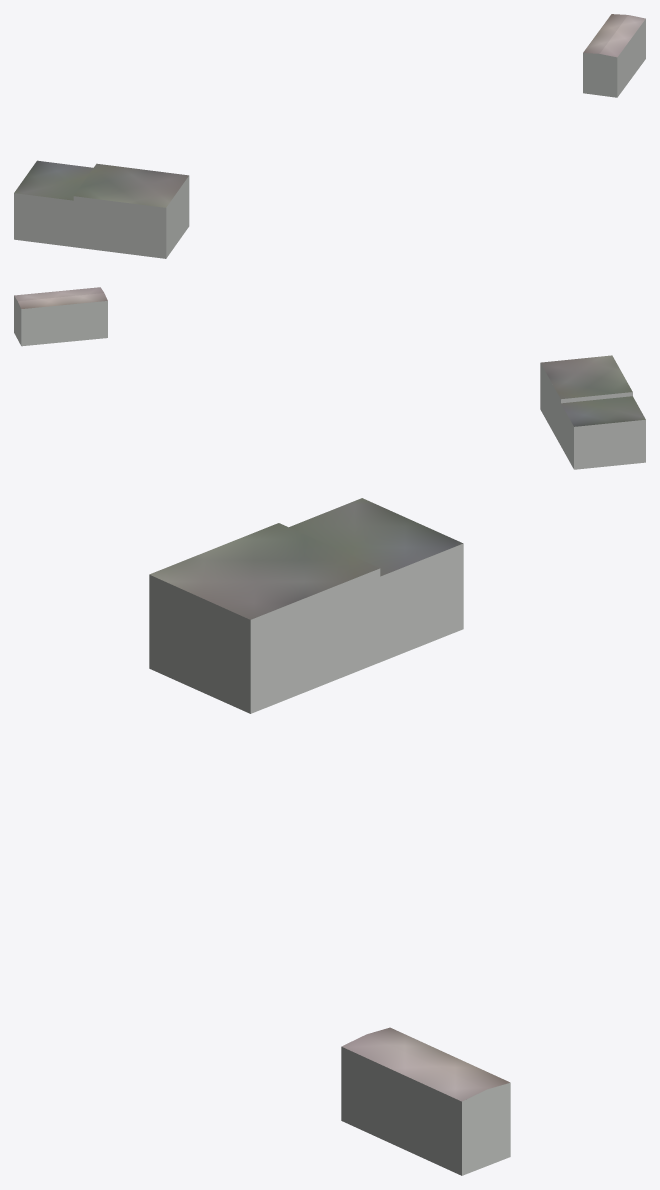
Rendered from LSGG_2_2.glb.
The picture shows the model from 3 angles, top to bottom: view 1: azimuth 30°, elevation 25°; view 2: azimuth 150°, elevation 25°; view 3: azimuth 270°, elevation 25°; orthographic projection. The views are drawn at different scales.
Parts seen in each view (by area): view 1: building_2f88e2e7c677173d, building_19b583f1ce21ee66; view 2: building_2f88e2e7c677173d, building_19b583f1ce21ee66; view 3: building_2f88e2e7c677173d, building_19b583f1ce21ee66.
Boxes of the visible parts, left/top/right/bottom form: building_2f88e2e7c677173d: left=14, top=19, right=645, bottom=258; building_19b583f1ce21ee66: left=14, top=14, right=645, bottom=207; building_2f88e2e7c677173d: left=14, top=296, right=645, bottom=469; building_19b583f1ce21ee66: left=14, top=287, right=645, bottom=426; building_2f88e2e7c677173d: left=149, top=543, right=510, bottom=1175; building_19b583f1ce21ee66: left=149, top=498, right=509, bottom=1101.
Size of what is drawn, in the model's own units: 101 by 7.51 by 26.17.
Materials: 2 (1 with a texture image).
